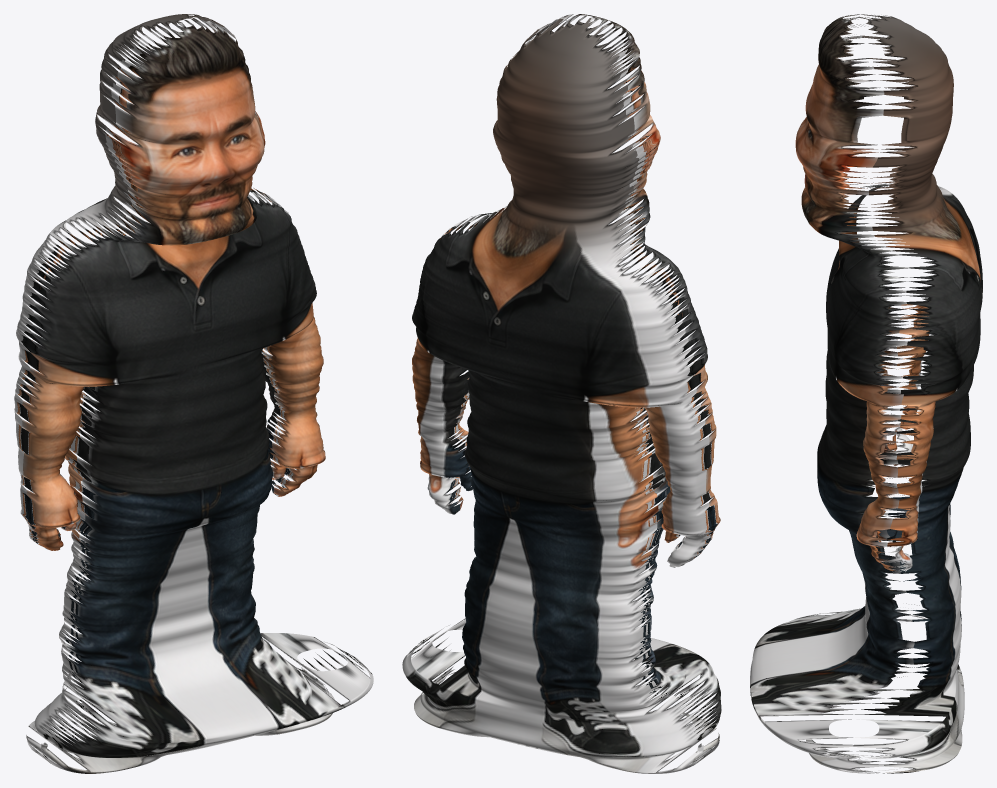
The model's file is lil_nate_morphs.glb.
3 renders of one model, left to right at view 1: azimuth 30°, elevation 25°; view 2: azimuth 150°, elevation 25°; view 3: azimuth 270°, elevation 25°, orthographic. The views are drawn at different scales.
Visible parts, largest first — view 1: LilNate; view 2: LilNate; view 3: LilNate.
Part boxes in pixels (x1,y1,x2,y2): LilNate: (14,14,373,773); LilNate: (402,14,721,773); LilNate: (750,14,982,773).
Size of the model in its own units: 0.6991 by 1.53 by 0.4641.
Materials: 1 (1 with a texture image).
